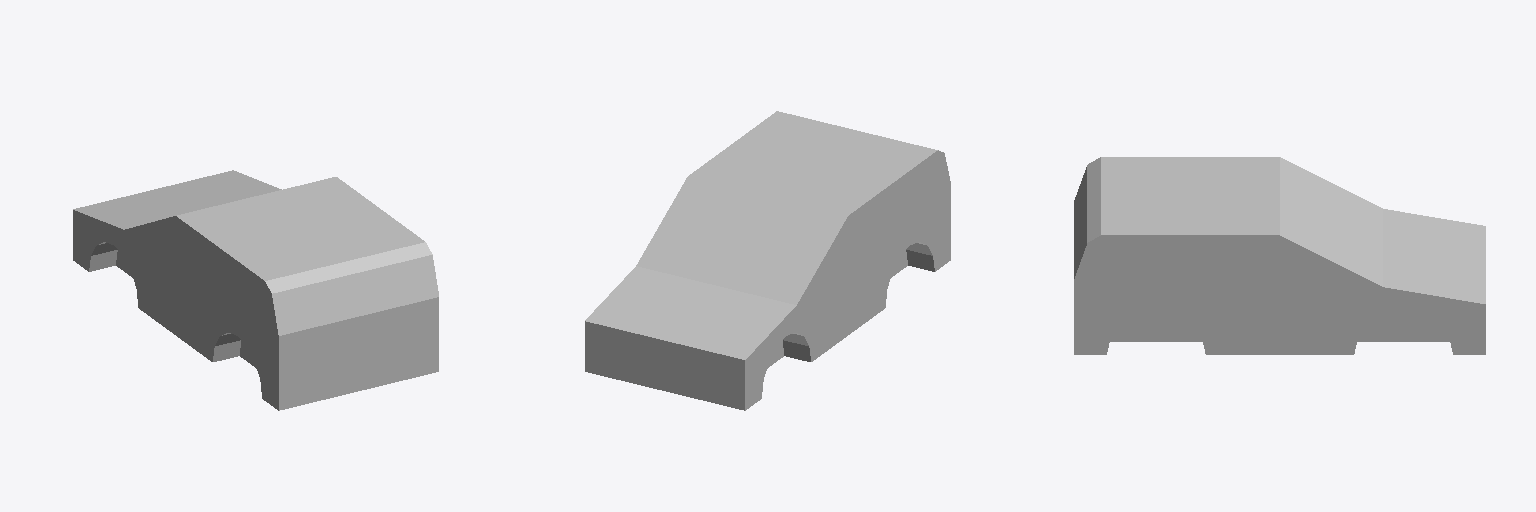
File: car_compact.obj
3 renders of one model, left to right at view 1: azimuth 30°, elevation 25°; view 2: azimuth 150°, elevation 25°; view 3: azimuth 270°, elevation 25°, orthographic.
Visible parts, largest first — view 1: Cube; view 2: Cube; view 3: Cube.
Boxes of the visible parts, x1=… form: Cube: x1=73, y1=170, x2=438, y2=410; Cube: x1=585, y1=111, x2=950, y2=410; Cube: x1=1074, y1=157, x2=1485, y2=354.
Size of the model in its own units: 2.25 by 1.6 by 5.